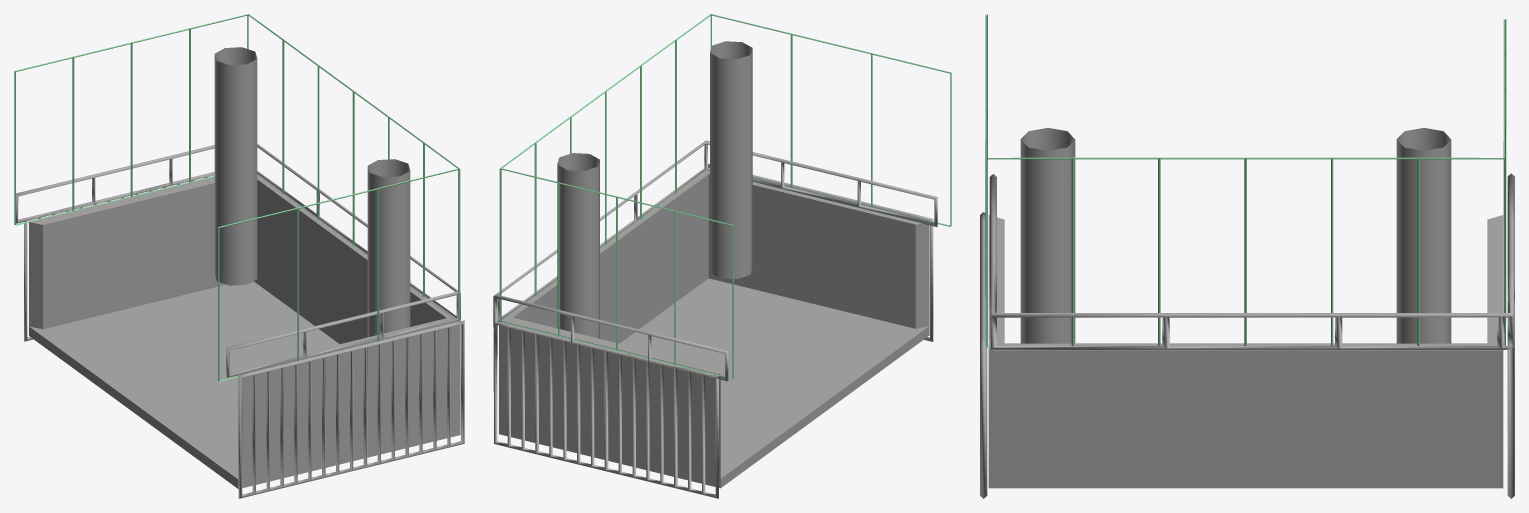
Rendered from haapalinna_parveke.fbx.
3 renders of one model, left to right at view 1: azimuth 30°, elevation 25°; view 2: azimuth 150°, elevation 25°; view 3: azimuth 270°, elevation 25°, orthographic. The views are drawn at different scales.
Visible parts, largest first — view 1: Plane; view 2: Plane; view 3: Plane.
Part boxes in pixels (bbox=[...]): Plane: bbox=[14, 14, 464, 498]; Plane: bbox=[493, 14, 951, 498]; Plane: bbox=[980, 14, 1514, 498].
Bounding box in the file's own units: 263 × 283 × 406.
